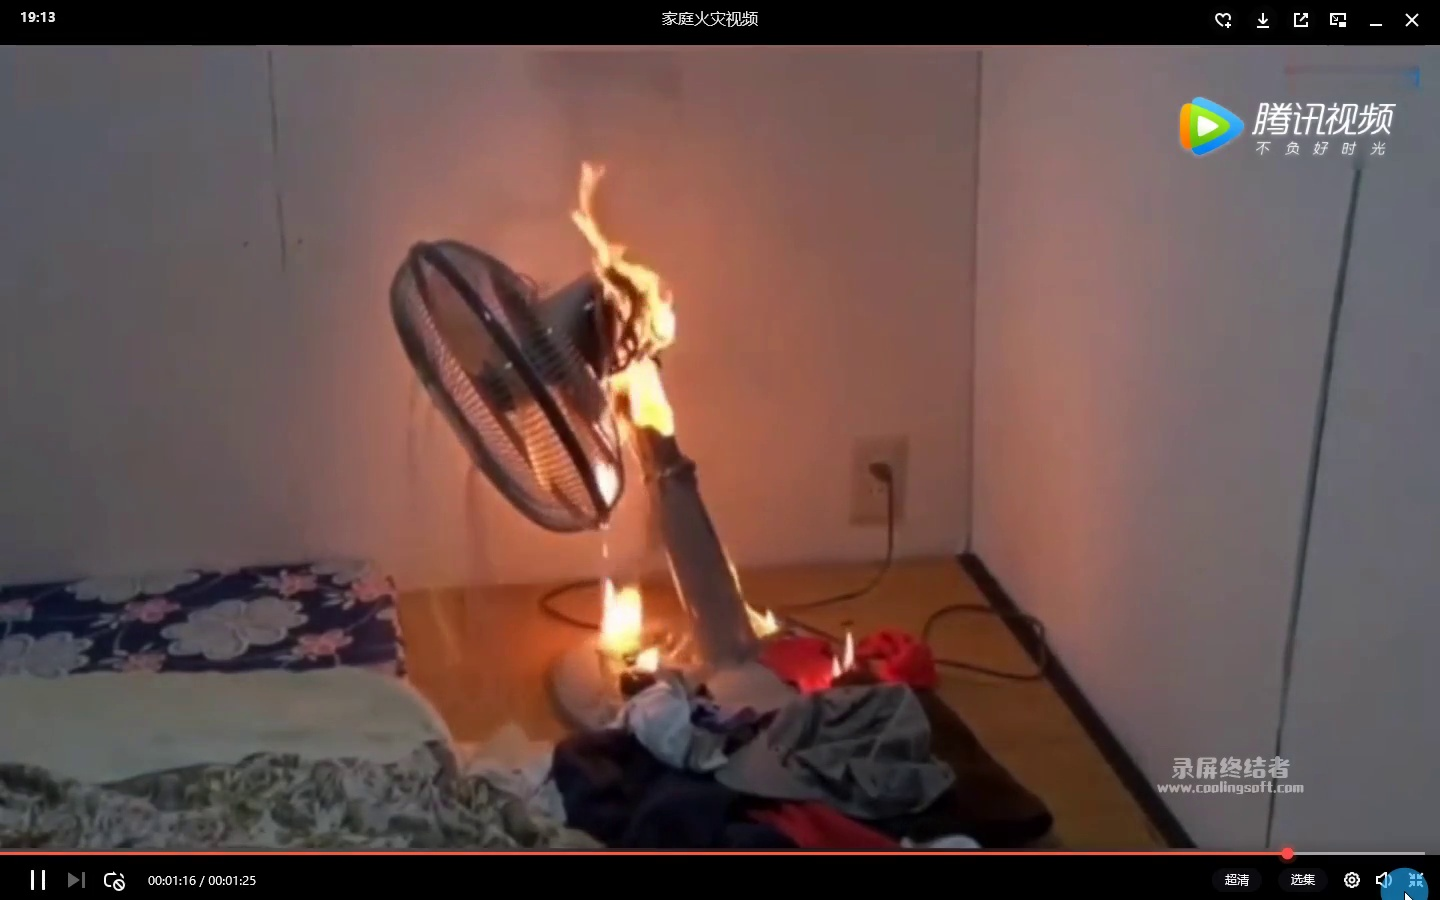fire: (557, 151, 688, 445), (585, 540, 658, 683)
